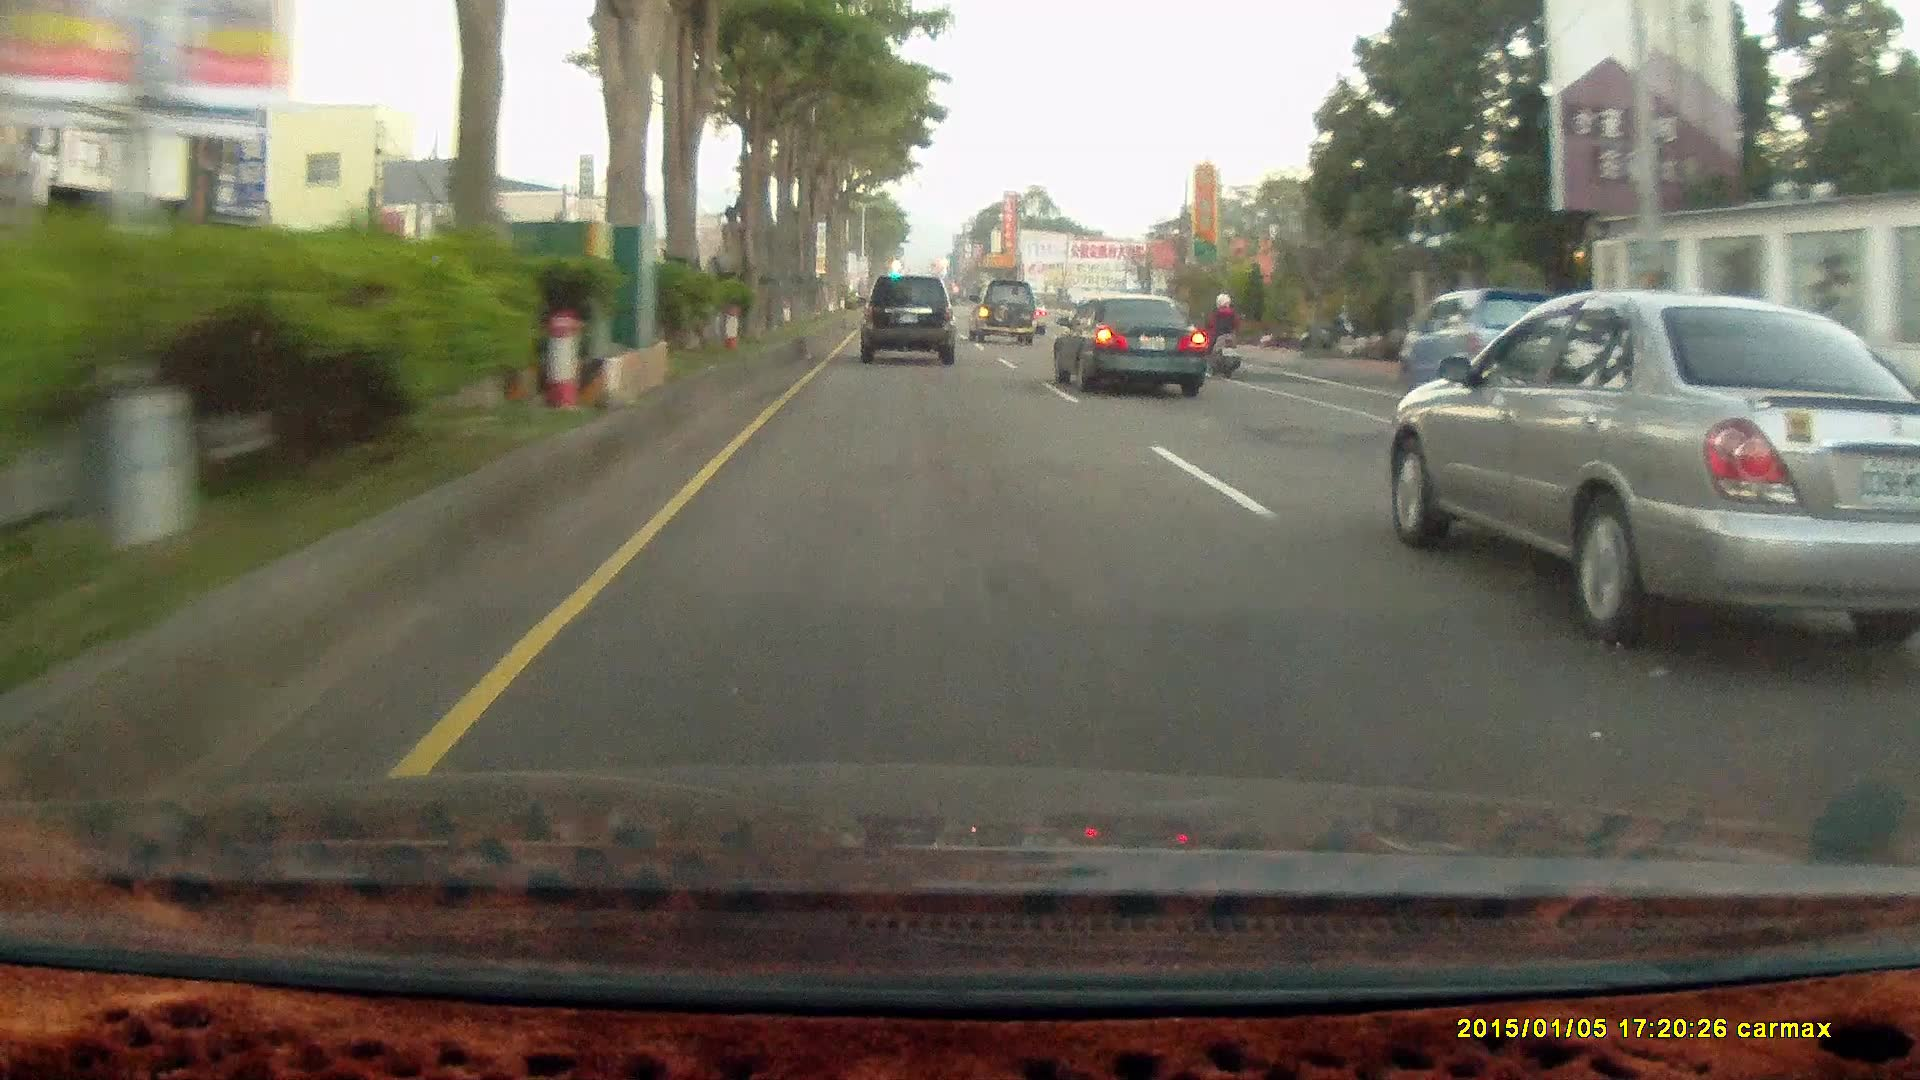rider: (1201, 293, 1246, 381)
vehicle: (1392, 299, 1920, 655), (1394, 286, 1576, 399), (1394, 287, 1577, 393), (1051, 293, 1207, 398), (1056, 296, 1212, 400), (860, 275, 963, 371), (855, 274, 954, 365), (968, 280, 1037, 348), (968, 279, 1037, 343)
